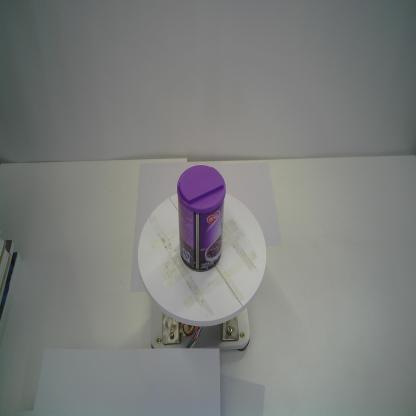Canned Food: (176, 164, 226, 272)
